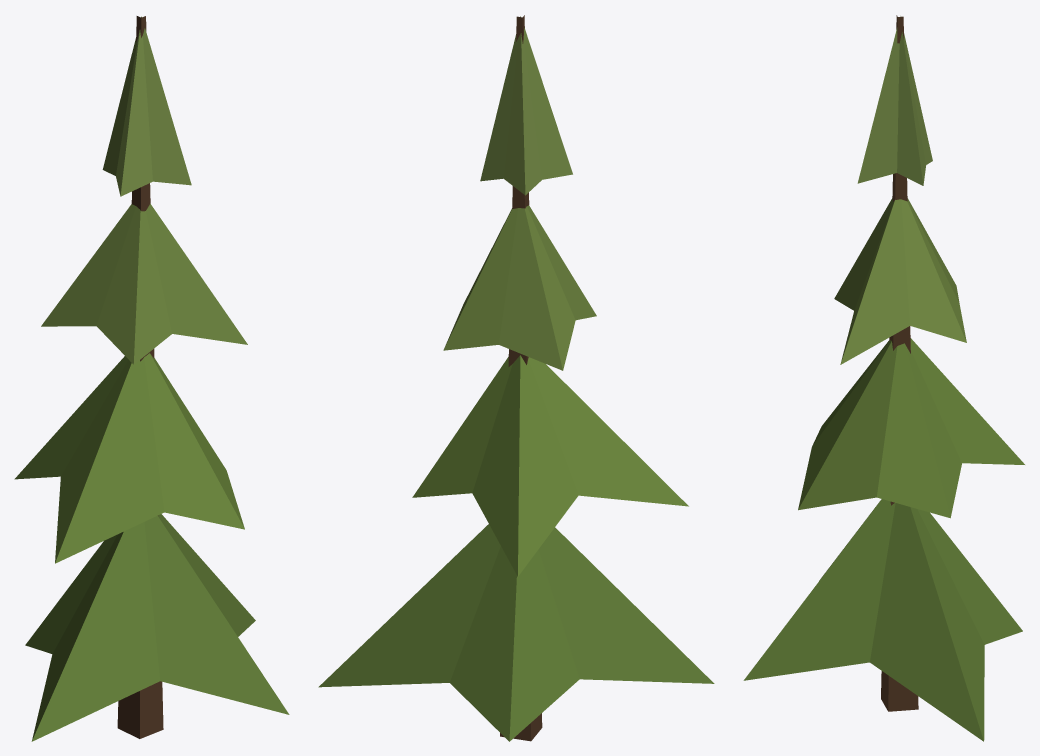
File: larch_far.glb
3 renders of one model, left to right at view 1: azimuth 30°, elevation 25°; view 2: azimuth 150°, elevation 25°; view 3: azimuth 270°, elevation 25°, orthographic. The views are drawn at different scales.
Visible parts, largest first — view 1: larch_far; view 2: larch_far; view 3: larch_far.
Part boxes in pixels (x1=…): larch_far: x1=14, y1=16, x2=289, y2=741; larch_far: x1=318, y1=15, x2=714, y2=741; larch_far: x1=743, y1=15, x2=1024, y2=741.
Bounding box in the file's own units: 4.63 × 10.2 × 3.79.
